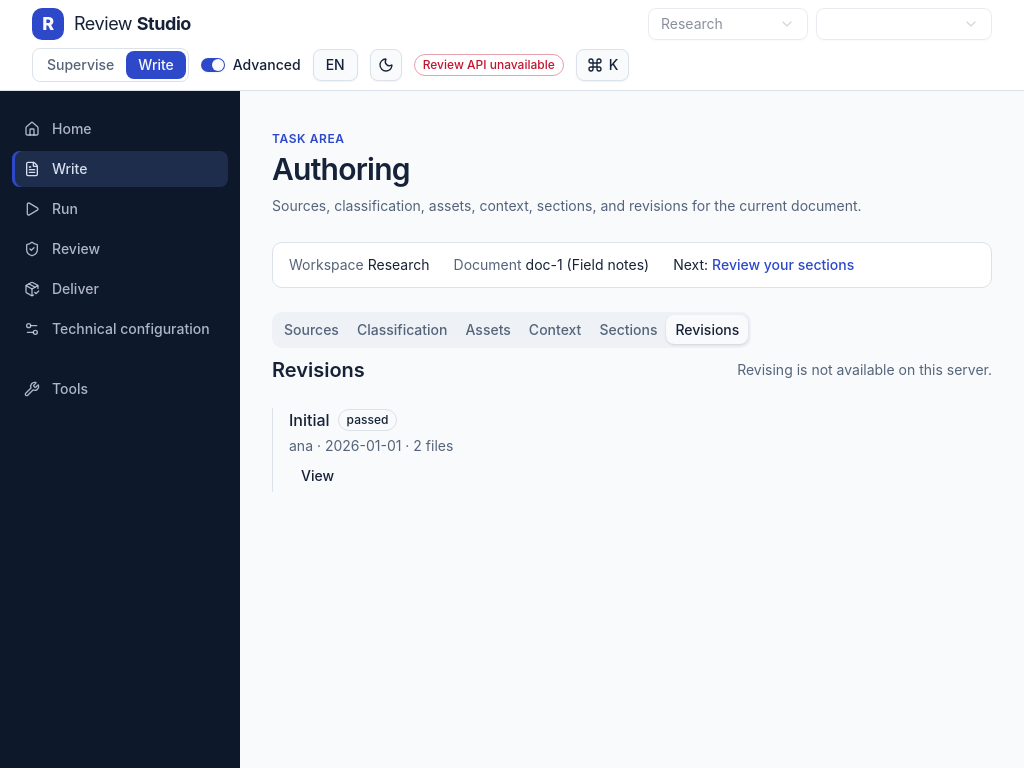
it: revisions › lists revisions as a timeline and opens one
Expected: the text "Initial" is shown, [289,408,330,432]
Click the button with aria-label "View revision r1" at [318, 476], box [289,460,346,492]
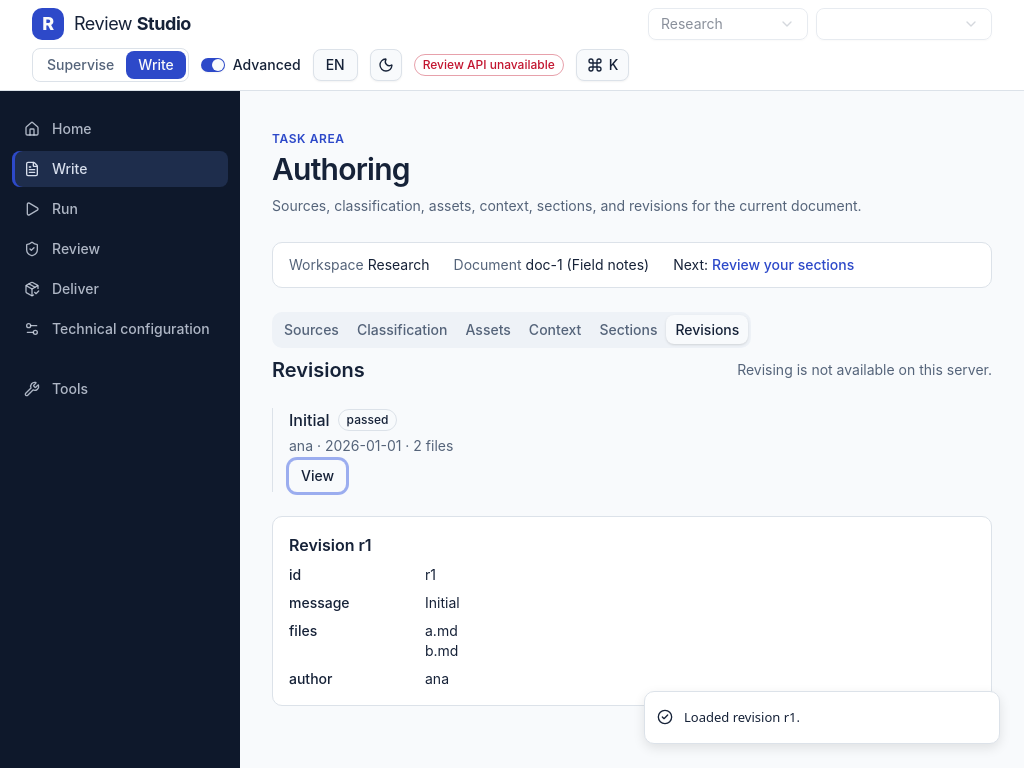
Expected: the list item "a.md" is shown, [425,622,458,639]
